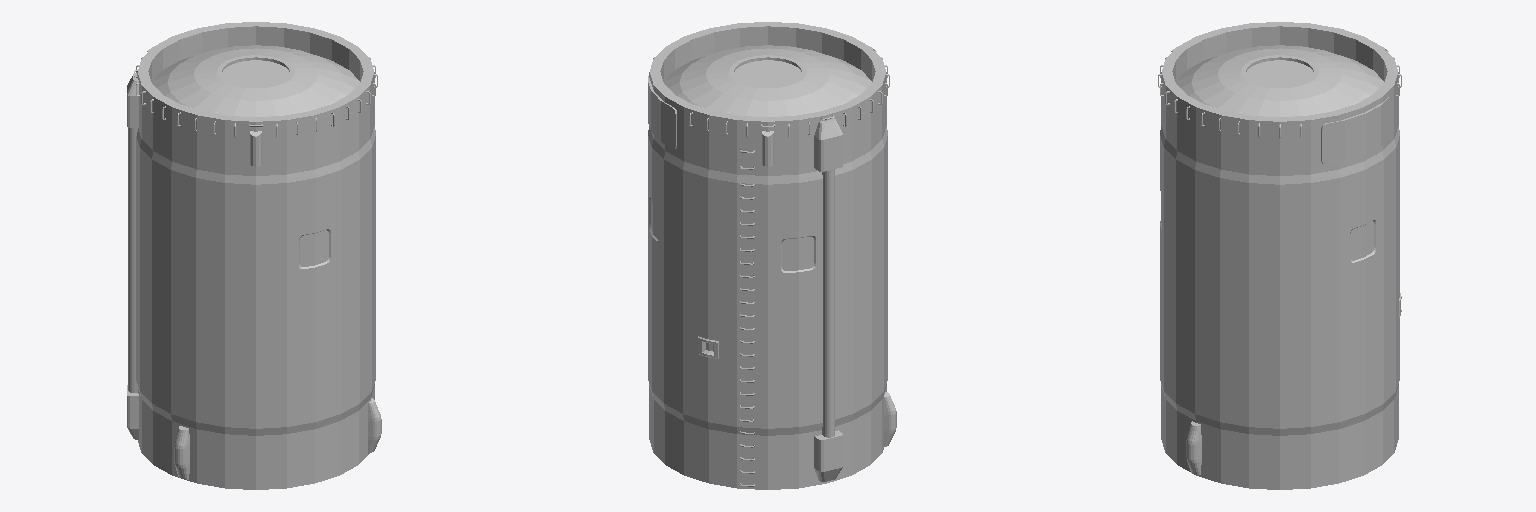
File: Skylab_OWS_forAP.obj
The picture shows the model from 3 angles: view 1: azimuth 30°, elevation 25°; view 2: azimuth 150°, elevation 25°; view 3: azimuth 270°, elevation 25°; orthographic projection.
Visible parts, largest first — view 1: Skylab_OWS_Merged2; view 2: Skylab_OWS_Merged2; view 3: Skylab_OWS_Merged2.
Part boxes in pixels (left/top/right/bottom): Skylab_OWS_Merged2: left=127, top=22, right=381, bottom=489; Skylab_OWS_Merged2: left=648, top=22, right=896, bottom=489; Skylab_OWS_Merged2: left=1158, top=22, right=1401, bottom=489.
Bounding box in the file's own units: 3.86 × 6.43 × 3.86.